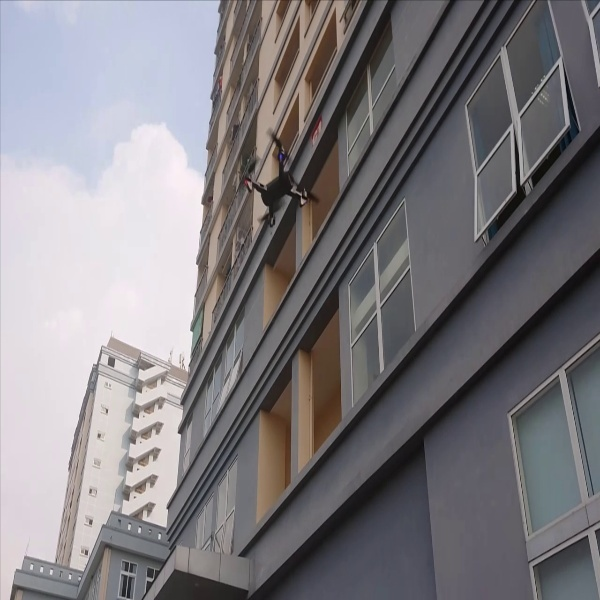drone: (234, 128, 323, 232)
